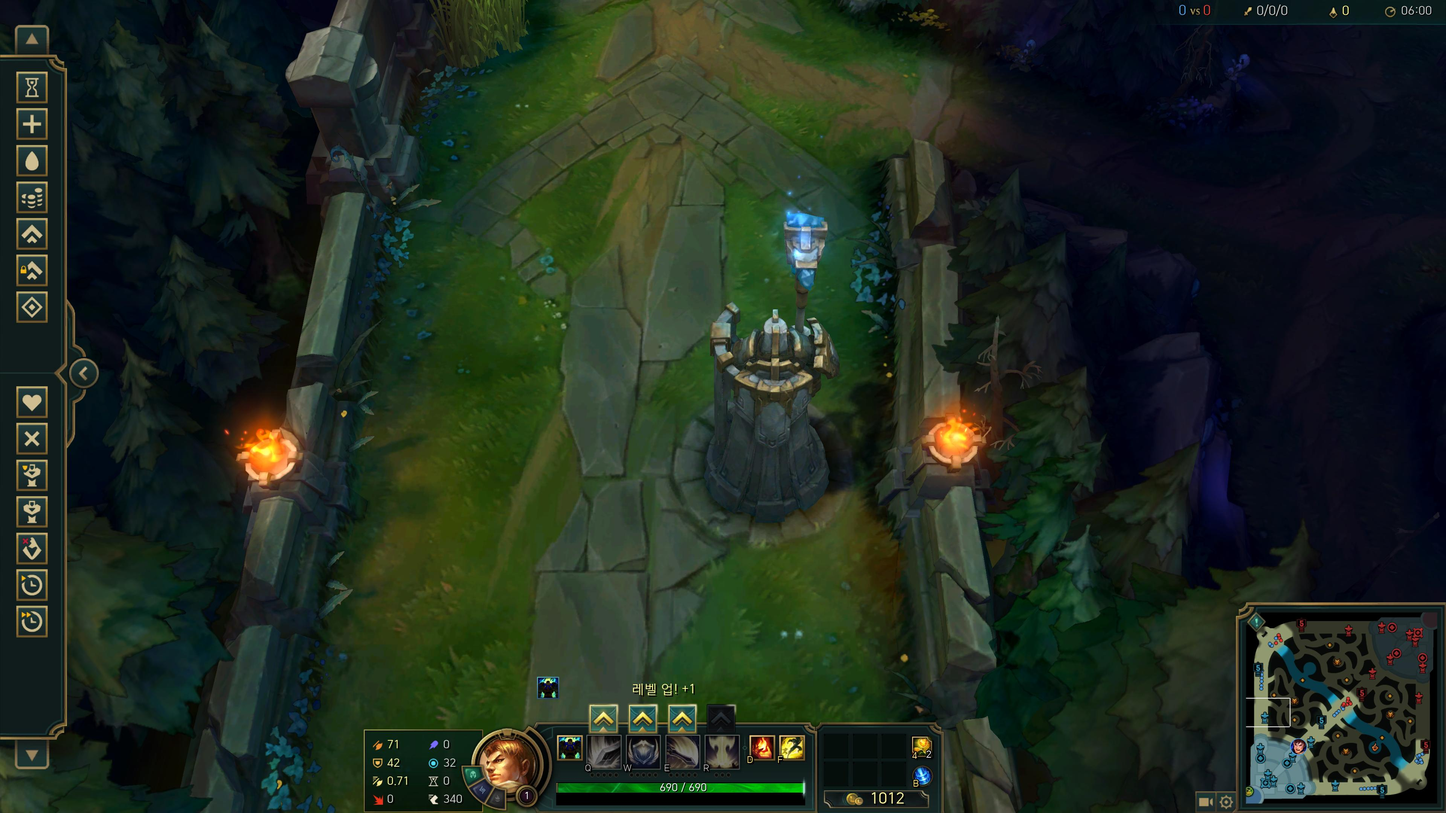ally-tower: (676, 214, 856, 549)
